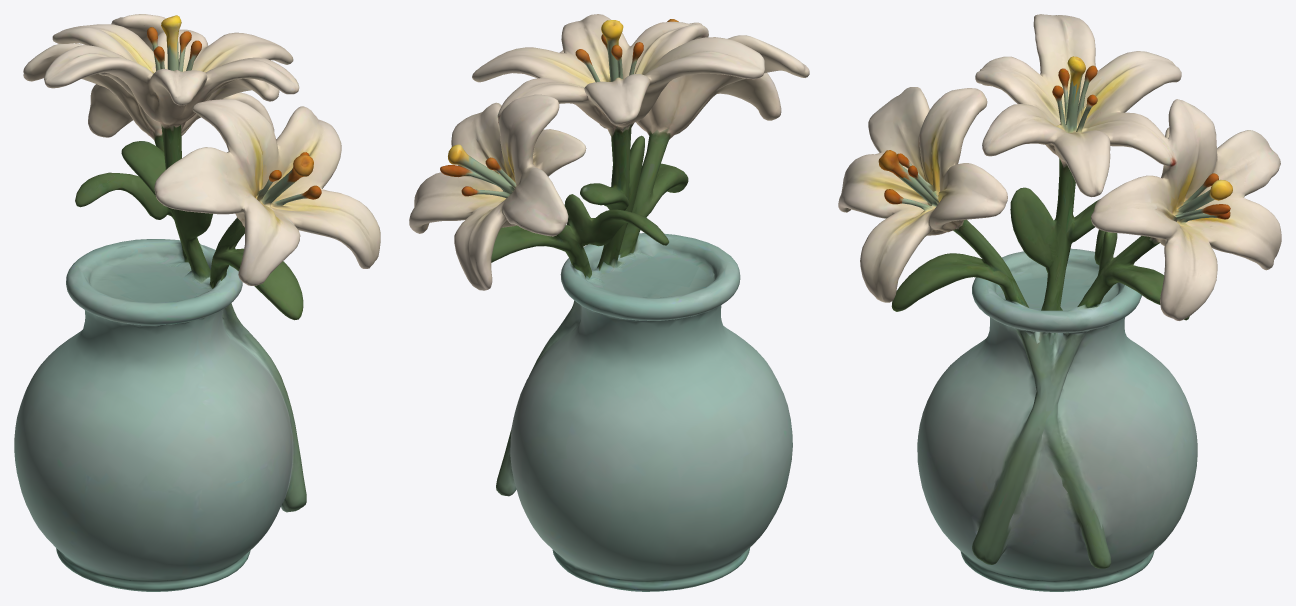
File: keepsake-white-lily.glb
3 renders of one model, left to right at view 1: azimuth 30°, elevation 25°; view 2: azimuth 150°, elevation 25°; view 3: azimuth 270°, elevation 25°, orthographic. The views are drawn at different scales.
Visible parts, largest first — view 1: tripo_node_d1bf25ab-2a3d-4dd6-8b38-54541bd2846e; view 2: tripo_node_d1bf25ab-2a3d-4dd6-8b38-54541bd2846e; view 3: tripo_node_d1bf25ab-2a3d-4dd6-8b38-54541bd2846e.
Part boxes in pixels (x1,y1,x2,y2): tripo_node_d1bf25ab-2a3d-4dd6-8b38-54541bd2846e: [14, 14, 380, 591]; tripo_node_d1bf25ab-2a3d-4dd6-8b38-54541bd2846e: [409, 14, 809, 591]; tripo_node_d1bf25ab-2a3d-4dd6-8b38-54541bd2846e: [838, 14, 1281, 591].
Size of the model in its own units: 0.5766 by 0.9777 by 0.7659.
Materials: 1 (1 with a texture image).
